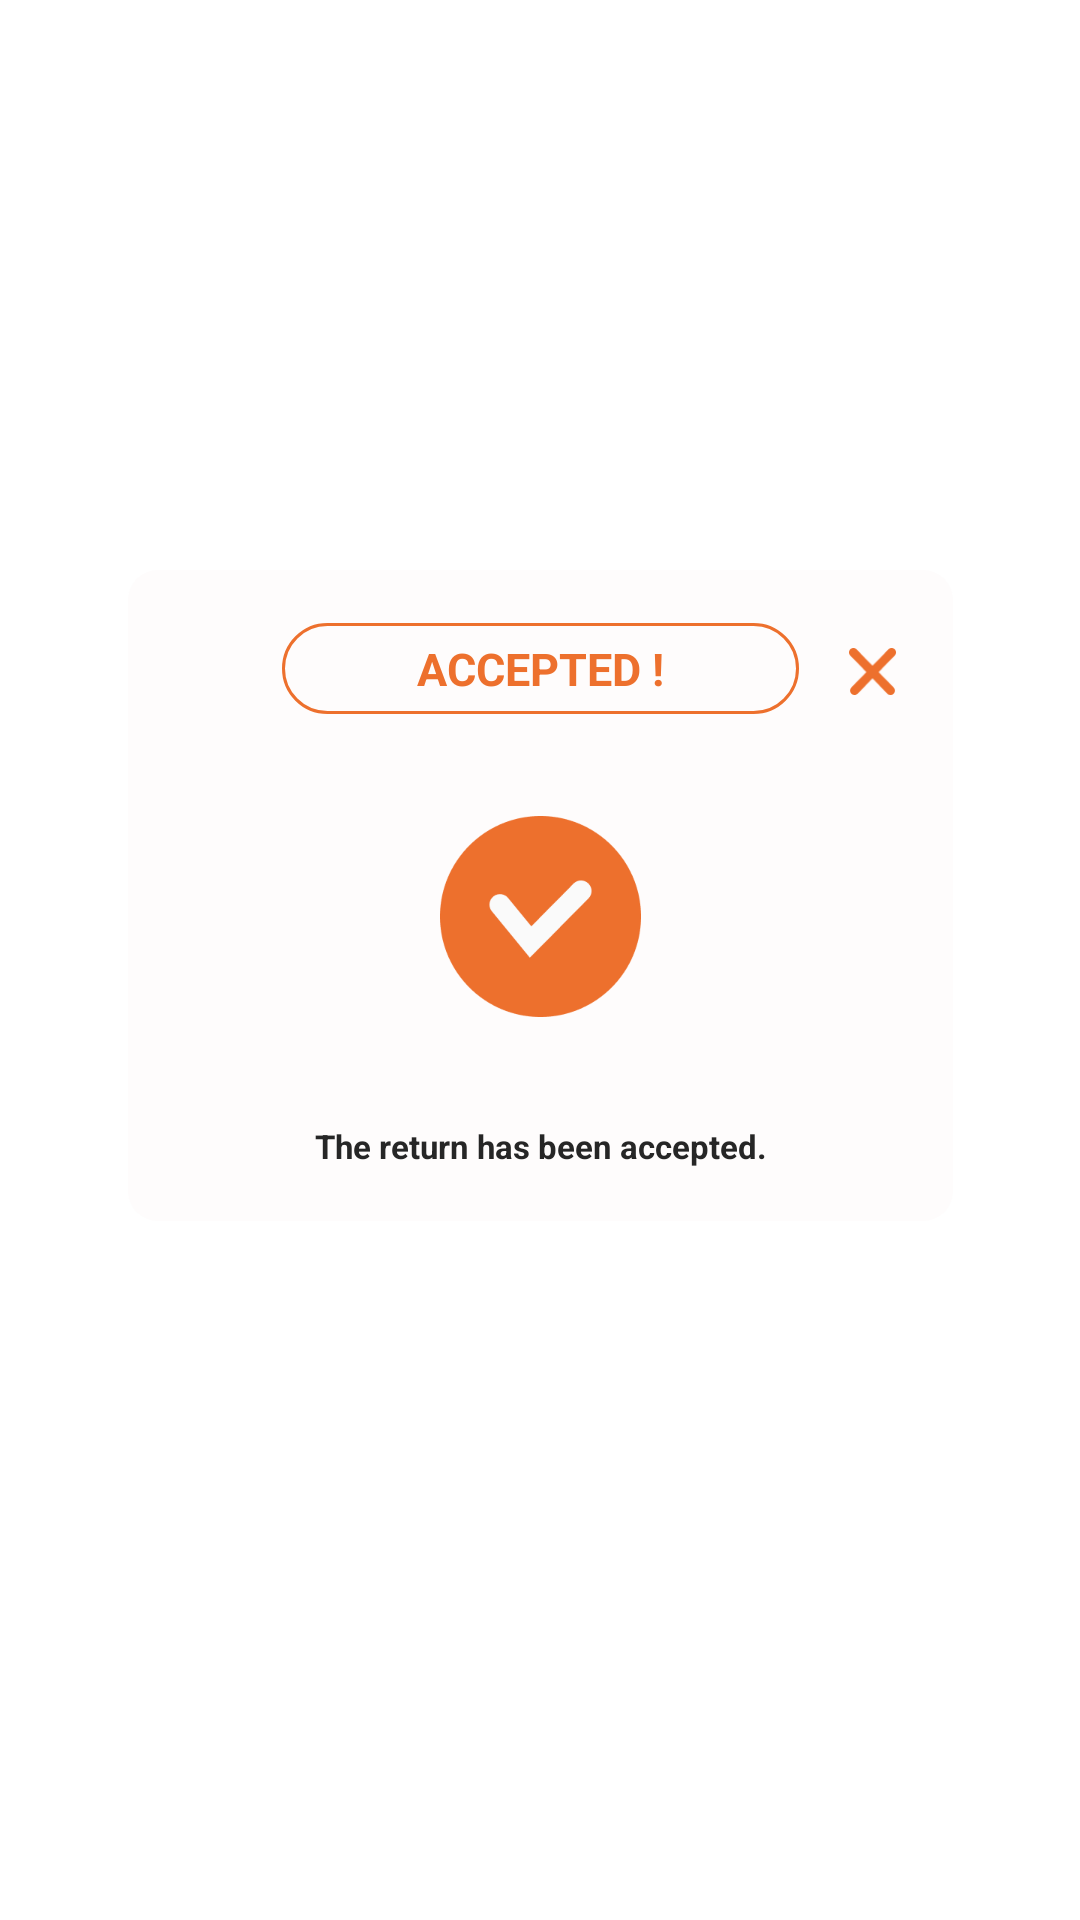

Icon click points for this 1080 x 1920 phone screenshot, format (x,y):
cancelicon: (872,671)
checkicon: (540,916)
